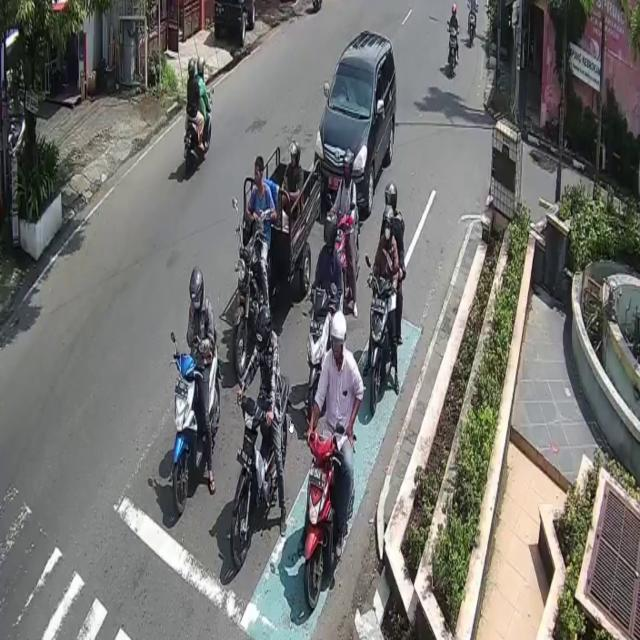bus: (230, 376, 290, 572), (172, 327, 221, 517), (304, 430, 342, 616), (232, 246, 273, 367), (306, 285, 328, 418), (371, 266, 392, 399), (183, 91, 212, 175), (447, 26, 458, 79)
motorcycle: (314, 30, 396, 216)
